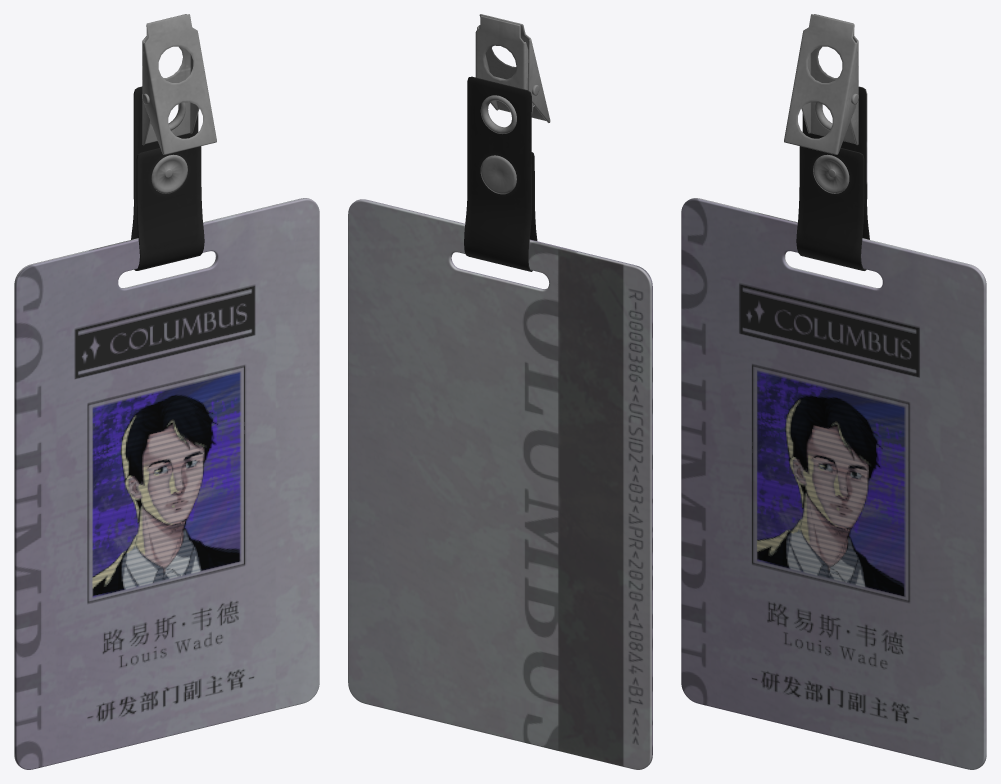
File: IDCard.fbx
3 renders of one model, left to right at view 1: azimuth 30°, elevation 25°; view 2: azimuth 150°, elevation 25°; view 3: azimuth 330°, elevation 25°, orthographic.
Parts seen in each view (by area): view 1: IDCard; view 2: IDCard; view 3: IDCard.
Part boxes in pixels (x1,y1,x2,y2): IDCard: (14,14,319,769); IDCard: (348,14,652,769); IDCard: (681,14,986,769).
Bounding box in the file's own units: 108 × 244 × 17.58.
